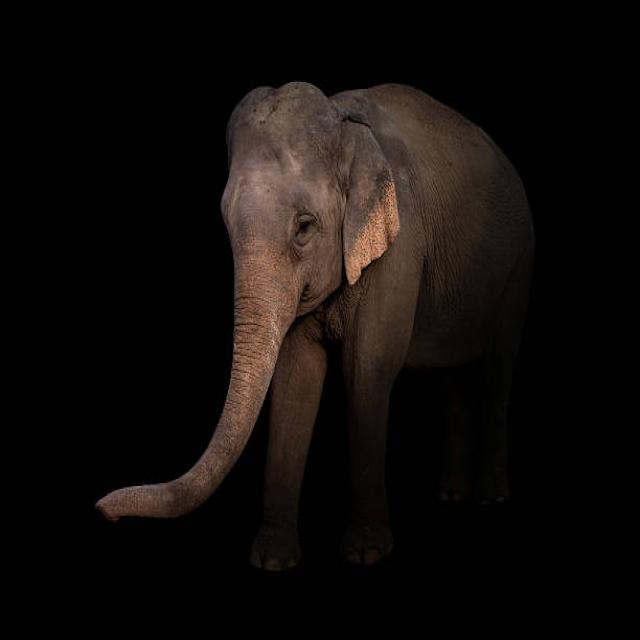Elephant: (126, 62, 536, 538)
